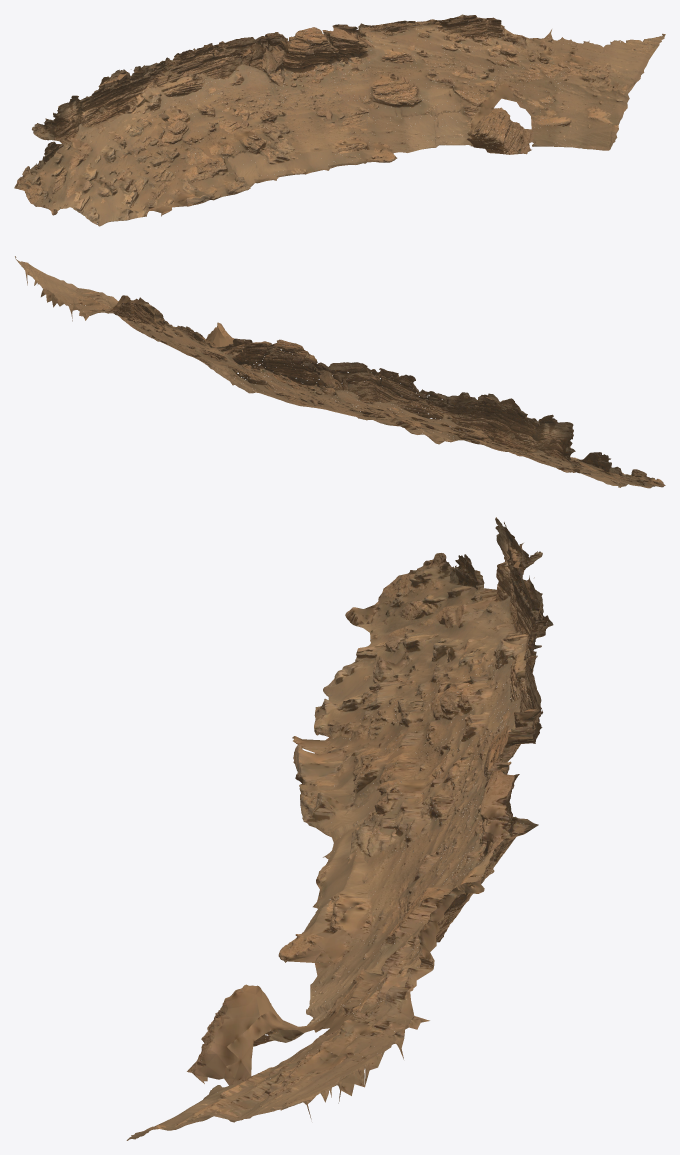
File: mars.glb
3 renders of one model, top to bottom at view 1: azimuth 30°, elevation 25°; view 2: azimuth 150°, elevation 25°; view 3: azimuth 270°, elevation 25°, orthographic. The views are drawn at different scales.
Parts seen in each view (by area): view 1: Object_9, Object_2, Object_4, Object_6, Object_8; view 2: Object_2, Object_6, Object_9, Object_4, Object_8; view 3: Object_9, Object_6, Object_4, Object_2, Object_8.
Boxes of the visible parts, left/top/right/bottom form: Object_9: left=145, top=14, right=569, bottom=216; Object_2: left=165, top=24, right=665, bottom=150; Object_4: left=365, top=14, right=571, bottom=162; Object_6: left=14, top=23, right=370, bottom=226; Object_8: left=370, top=19, right=569, bottom=161; Object_2: left=15, top=256, right=424, bottom=415; Object_6: left=208, top=339, right=665, bottom=488; Object_9: left=67, top=295, right=575, bottom=472; Object_4: left=63, top=295, right=297, bottom=405; Object_8: left=72, top=296, right=251, bottom=387; Object_9: left=196, top=605, right=547, bottom=1104; Object_6: left=296, top=517, right=552, bottom=930; Object_4: left=187, top=835, right=515, bottom=1106; Object_2: left=126, top=615, right=553, bottom=1140; Object_8: left=192, top=833, right=523, bottom=1076.
Size of the model in its own units: 40.52 by 6.62 by 12.14.
5 materials, 5 textured.
